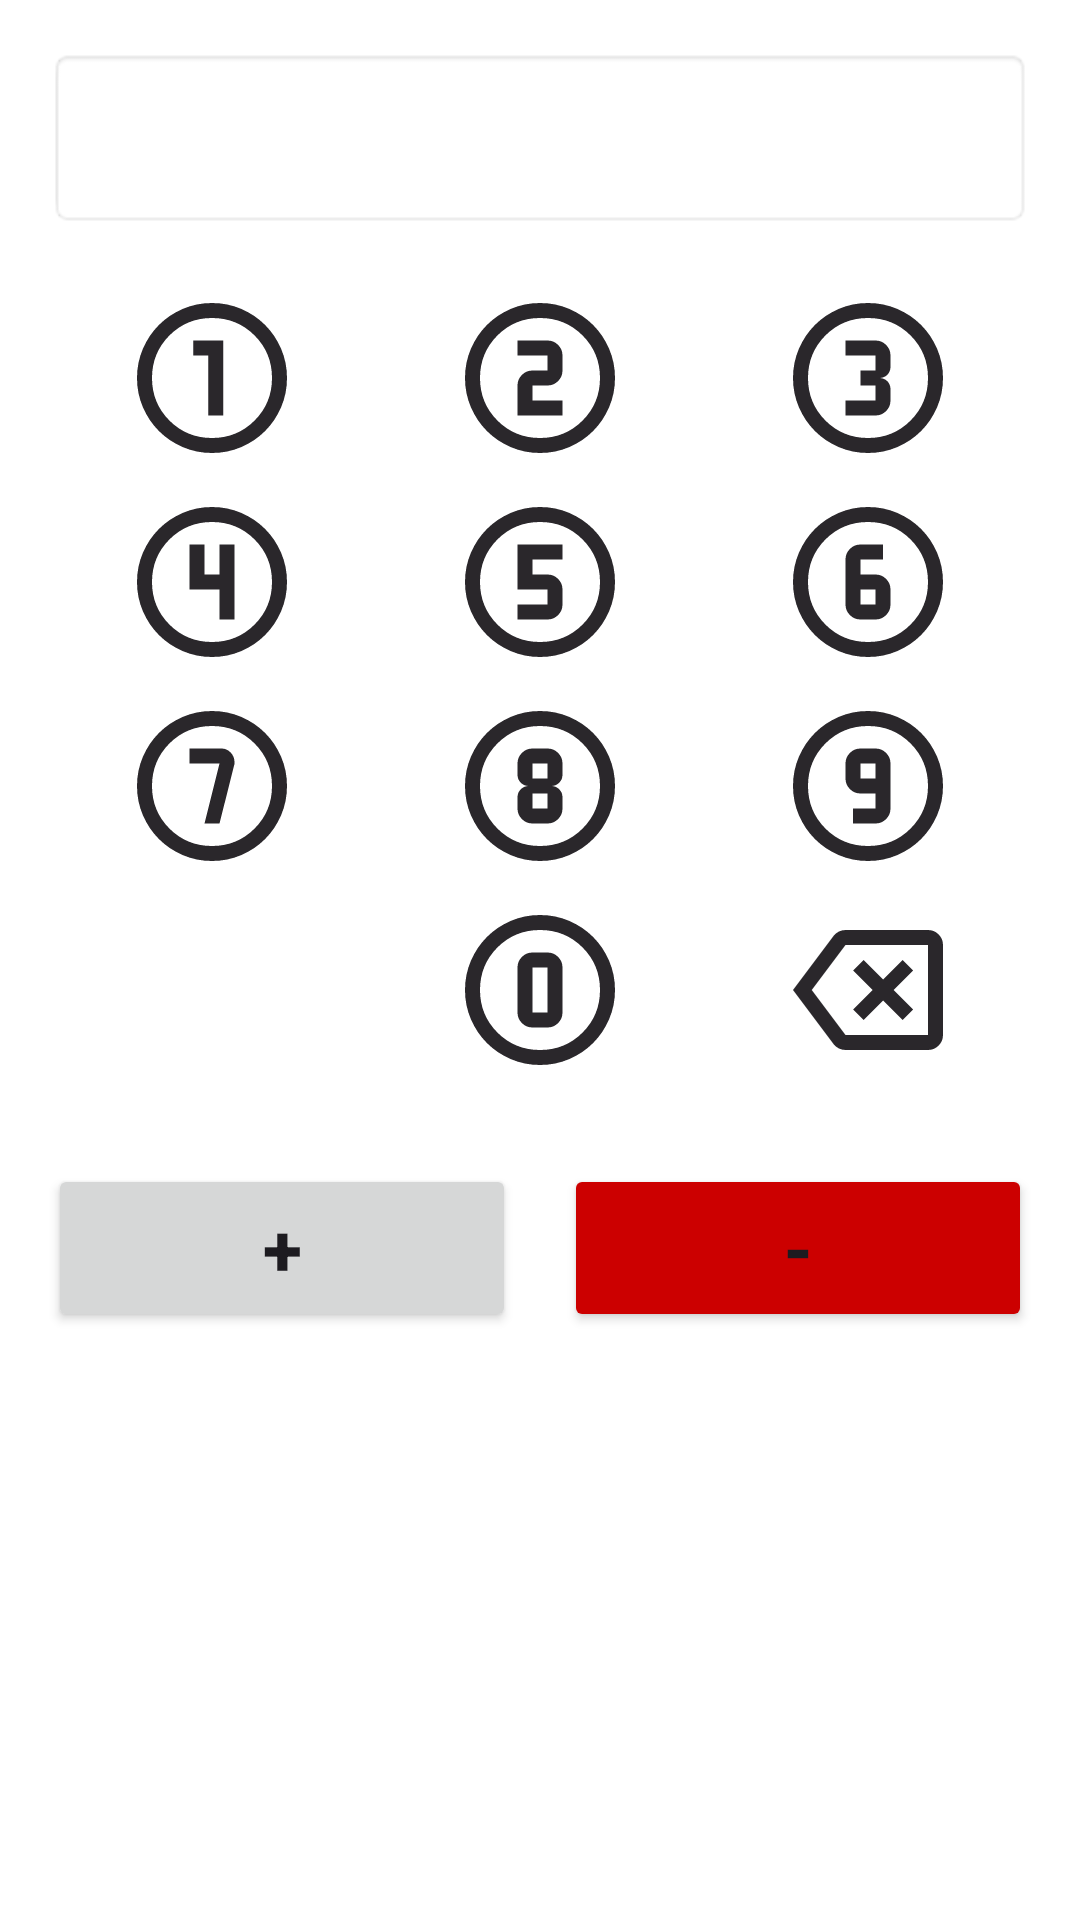

Where to tap for icons on this 1080px×1920px app screen, as point (x, y):
backspace: point (868, 990)
